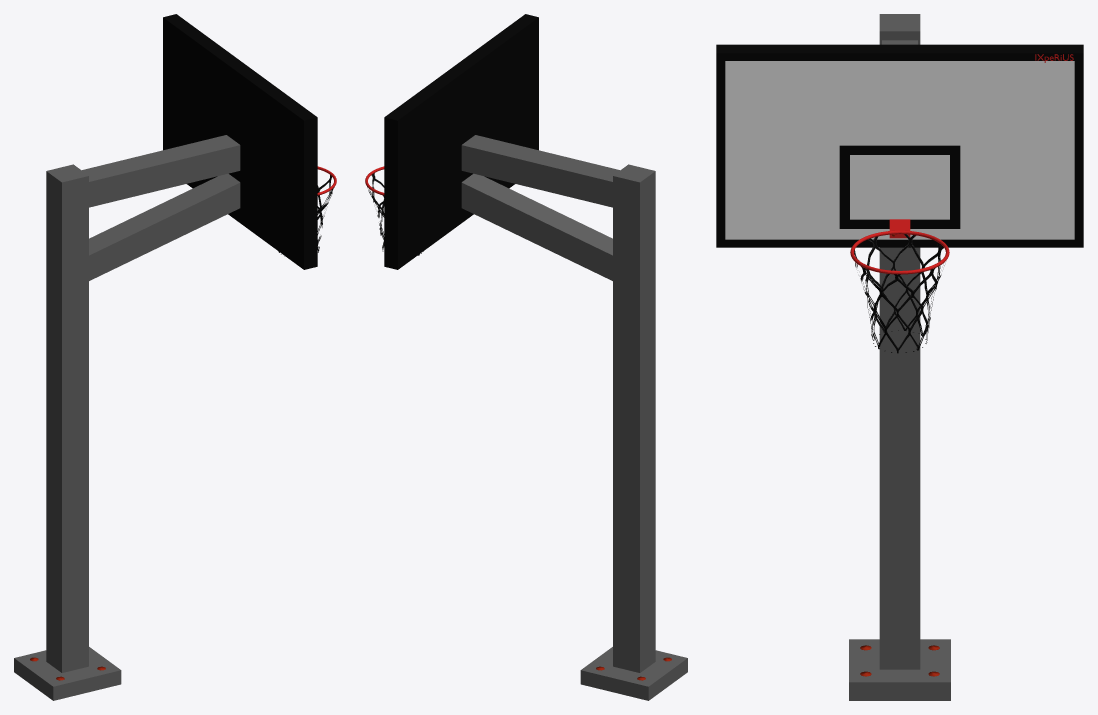
File: Basket.fbx
The picture shows the model from 3 angles, left to right: view 1: azimuth 30°, elevation 25°; view 2: azimuth 150°, elevation 25°; view 3: azimuth 270°, elevation 25°; orthographic projection. The views are drawn at different scales.
Parts seen in each view (by area): view 1: Column, Shield, ColumnCube; view 2: Column, Shield, ColumnCube; view 3: Shield, Column, ColumnCube, Grid, Circle.
Part boxes in pixels (<box>): Column: <box>46,135,240,672</box>; Shield: <box>163,14,317,269</box>; ColumnCube: <box>14,647,121,700</box>; Column: <box>461,135,655,672</box>; Shield: <box>384,14,538,269</box>; ColumnCube: <box>580,647,687,700</box>; Shield: <box>716,44,1083,247</box>; Column: <box>879,14,920,669</box>; ColumnCube: <box>849,639,950,700</box>; Grid: <box>854,234,944,353</box>; Circle: <box>850,230,949,274</box>.
Bounding box in the file's own units: 219 × 405 × 180.
